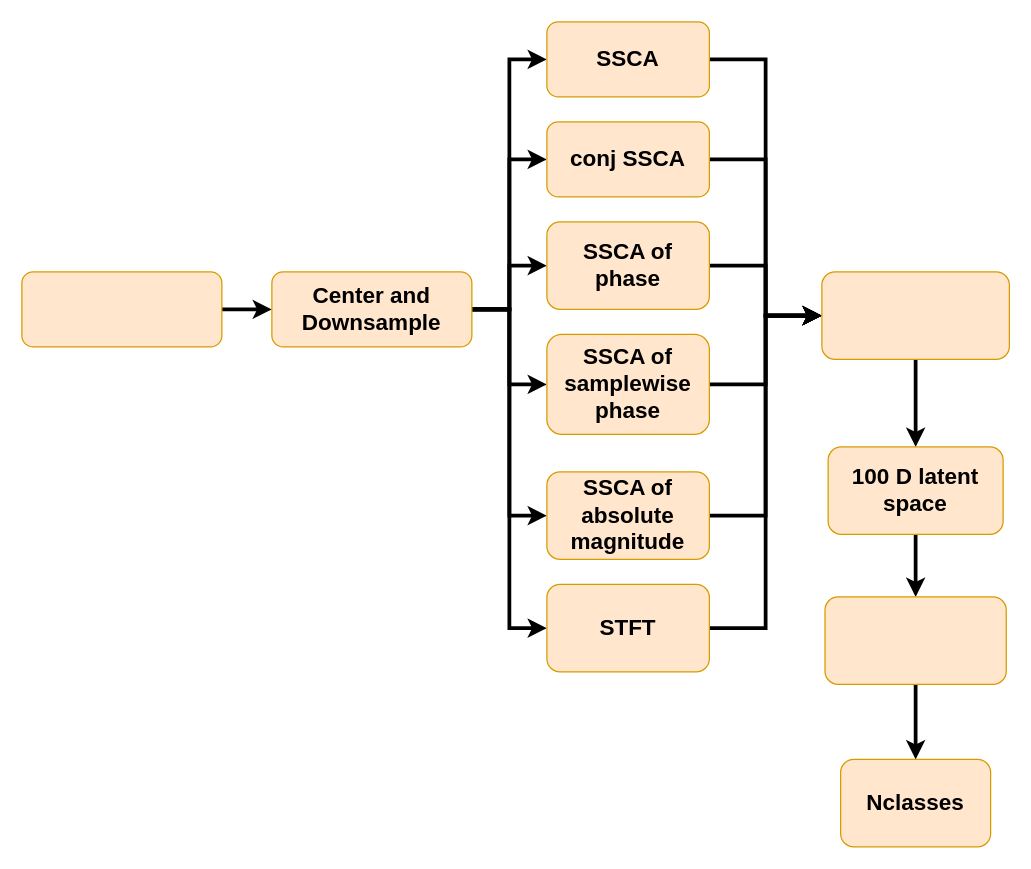
Some shapes in this 1031 by 869 pixel diagram are drawn without their labels. Each missing label, with the centre of its shape:
1D Neural Network: the point at 915,640
Energy Detector: the point at 121,309
Transformer Neural Network: the point at 915,315
